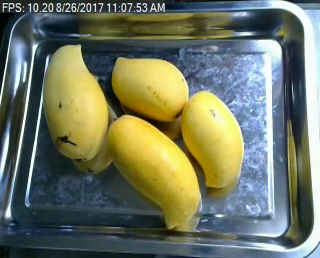Mango: (104, 112, 200, 230), (43, 45, 107, 164), (181, 89, 249, 191), (110, 53, 189, 118)
